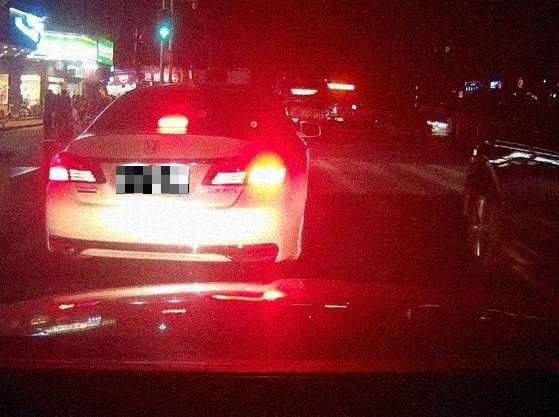L_light: (48, 151, 106, 184)
R_light: (200, 153, 290, 187)
T_light: (157, 116, 188, 130)
night-right: (43, 82, 301, 271)
plate_1: (116, 166, 189, 194)
